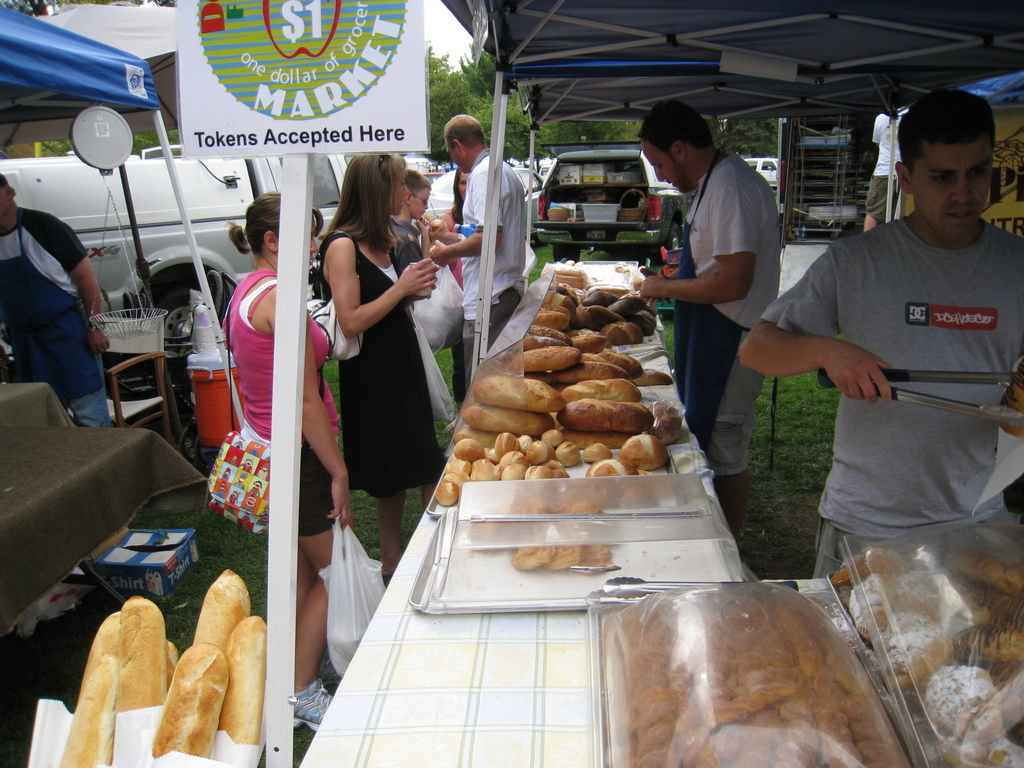Person: (0, 88, 1024, 729)
